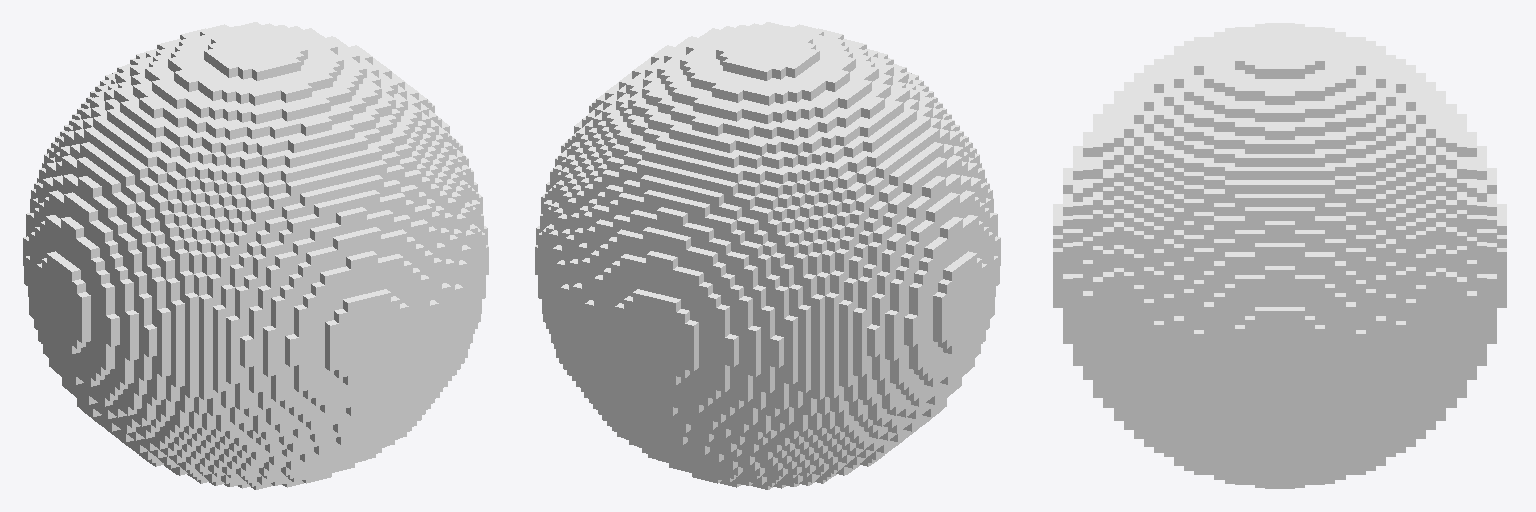
File: WaterPlanet.obj
3 views of the same model, side by side, from view 1: azimuth 30°, elevation 25°; view 2: azimuth 150°, elevation 25°; view 3: azimuth 270°, elevation 25° (orthographic).
Bounding box in the file's own units: 45 × 45 × 45.